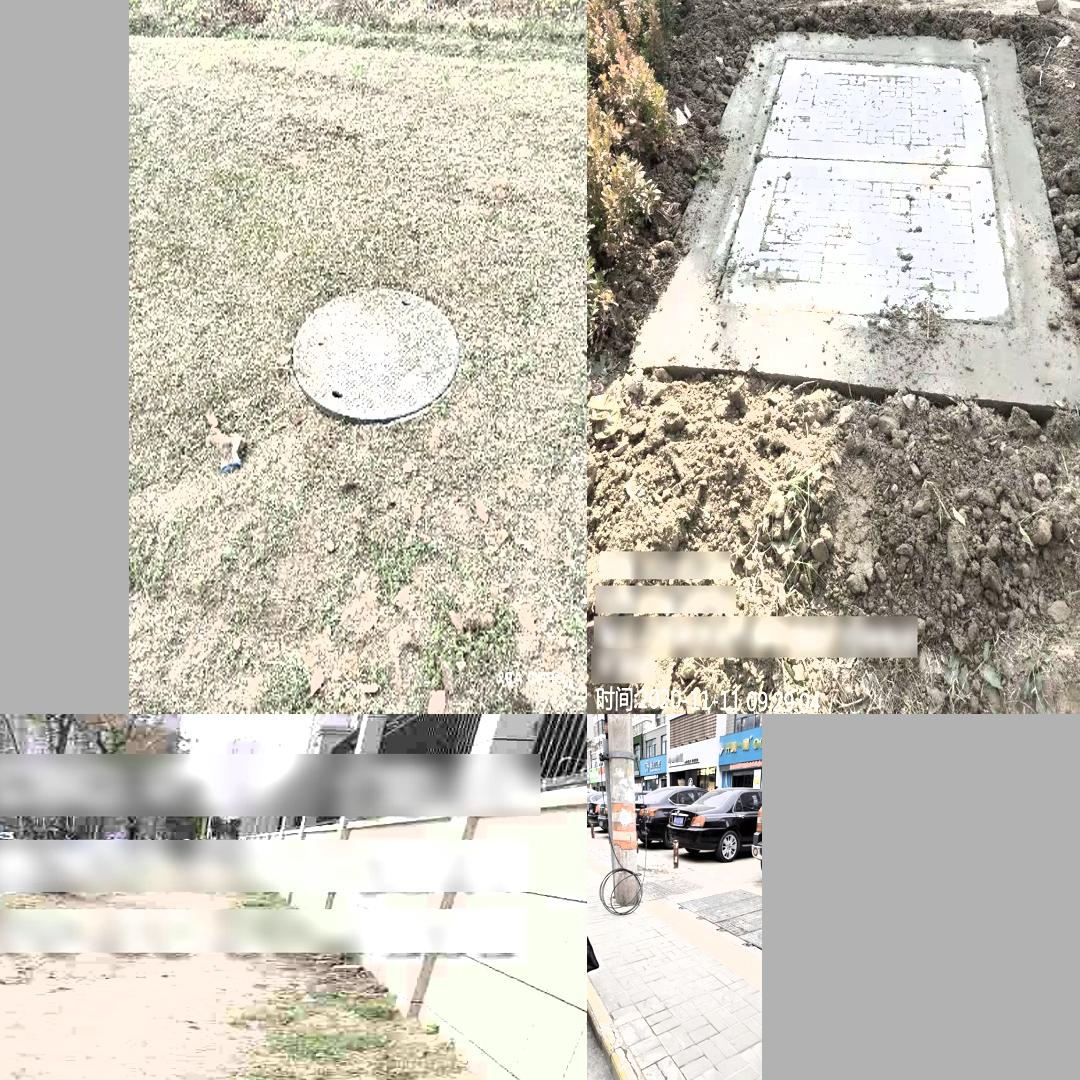good: (657, 12, 1080, 370), (294, 285, 460, 419), (675, 887, 762, 955), (639, 875, 706, 902)
